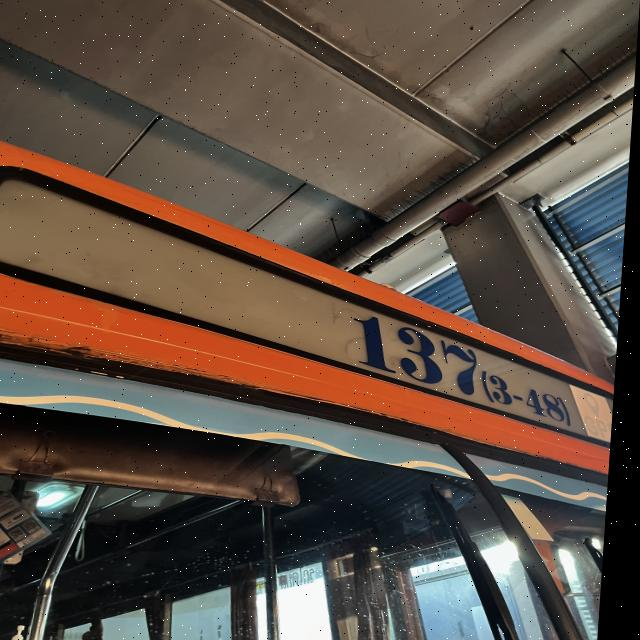BMTA-bus: (0, 136, 620, 640)
Bus Line Number: (336, 296, 588, 435)
